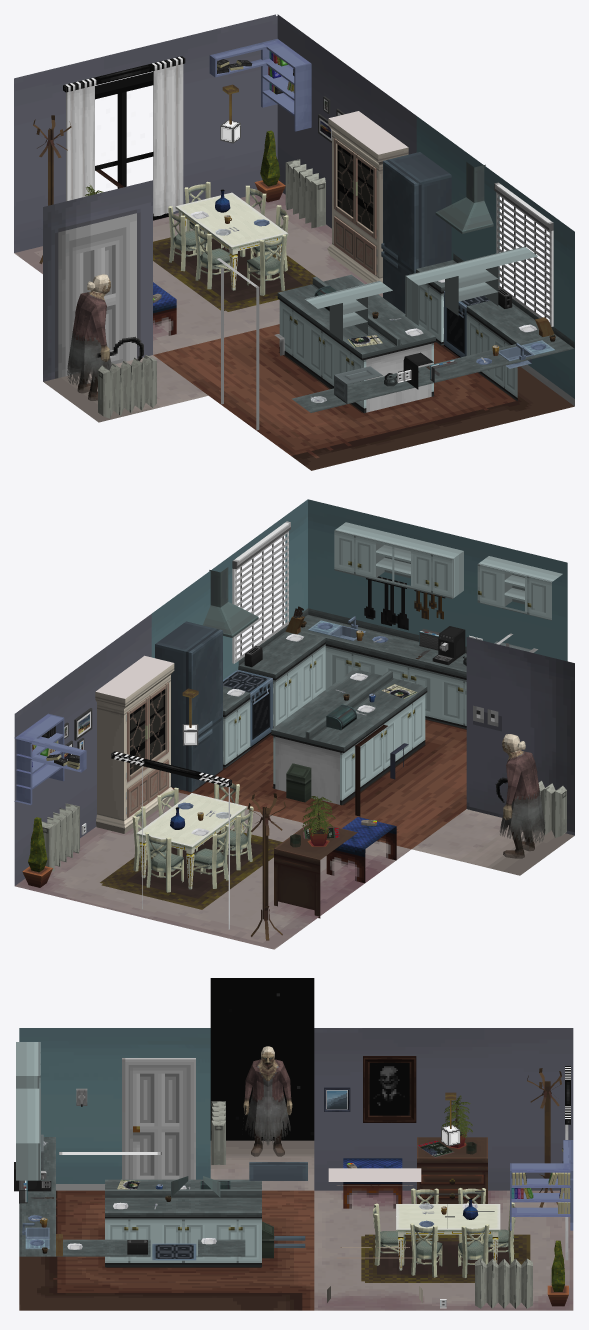
The picture shows the model from 3 angles, top to bottom: view 1: azimuth 30°, elevation 25°; view 2: azimuth 150°, elevation 25°; view 3: azimuth 270°, elevation 25°; orthographic projection. The views are drawn at different scales.
Visible parts, largest first — view 1: Room, Furniture, Items1, Plane; view 2: Furniture, Room, Items1, Plane; view 3: Room, Furniture, Items1, Plane.
Boxes of the visible parts, x1,y1,x2,y2 form: Room: (14,14,574,470); Furniture: (33,38,574,413); Items1: (85,51,555,418); Plane: (67,274,111,400); Furniture: (14,522,562,940); Room: (14,499,574,949); Items1: (32,521,566,847); Plane: (500,734,545,858); Room: (19,978,573,1310); Furniture: (16,1042,573,1308); Items1: (14,1088,570,1256); Plane: (243,1046,292,1156).
Size of the model in its own units: 492 by 227 by 679.
Materials: 8 (8 with a texture image).
